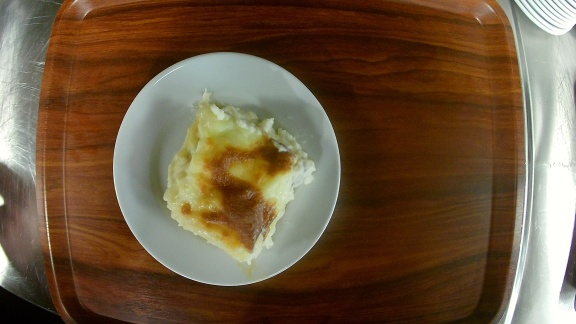firinmakarna: (112, 49, 345, 287)
